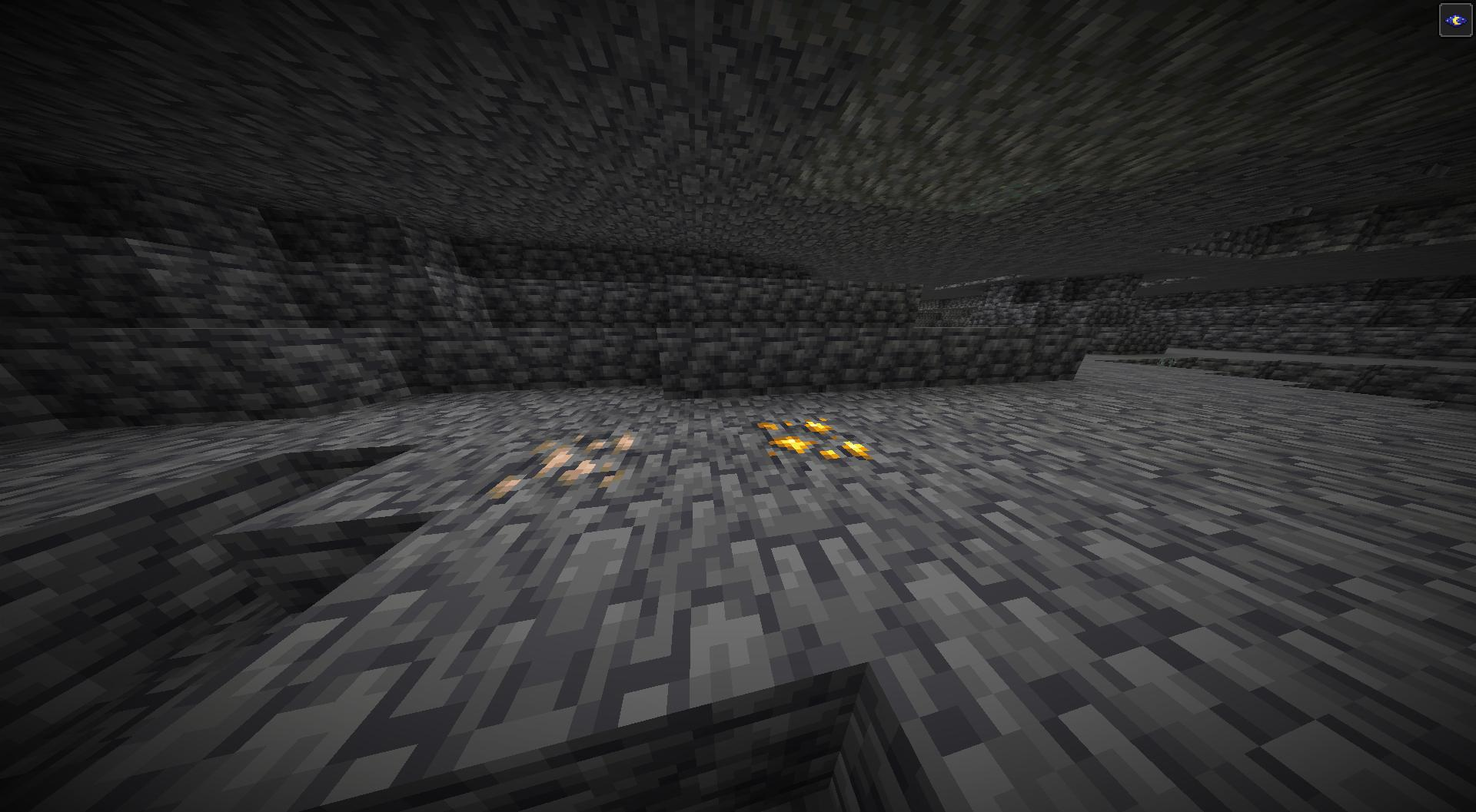gold ore: (761, 413, 871, 470)
iron ore: (485, 432, 637, 492)
